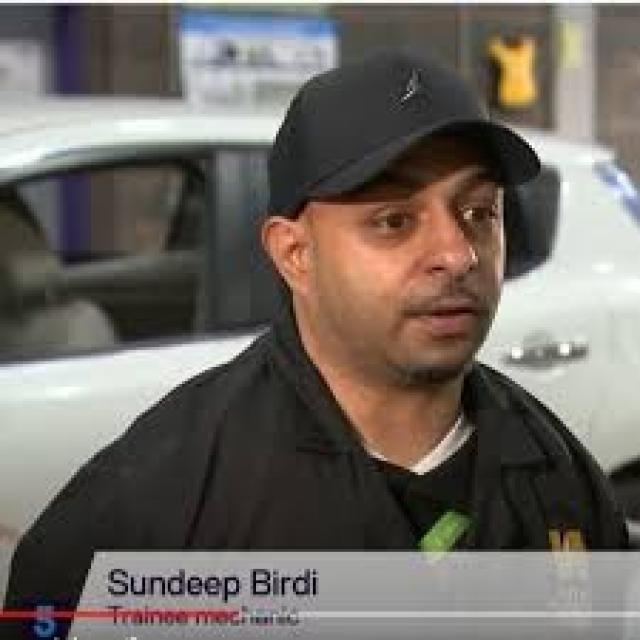cap: (256, 36, 556, 242)
